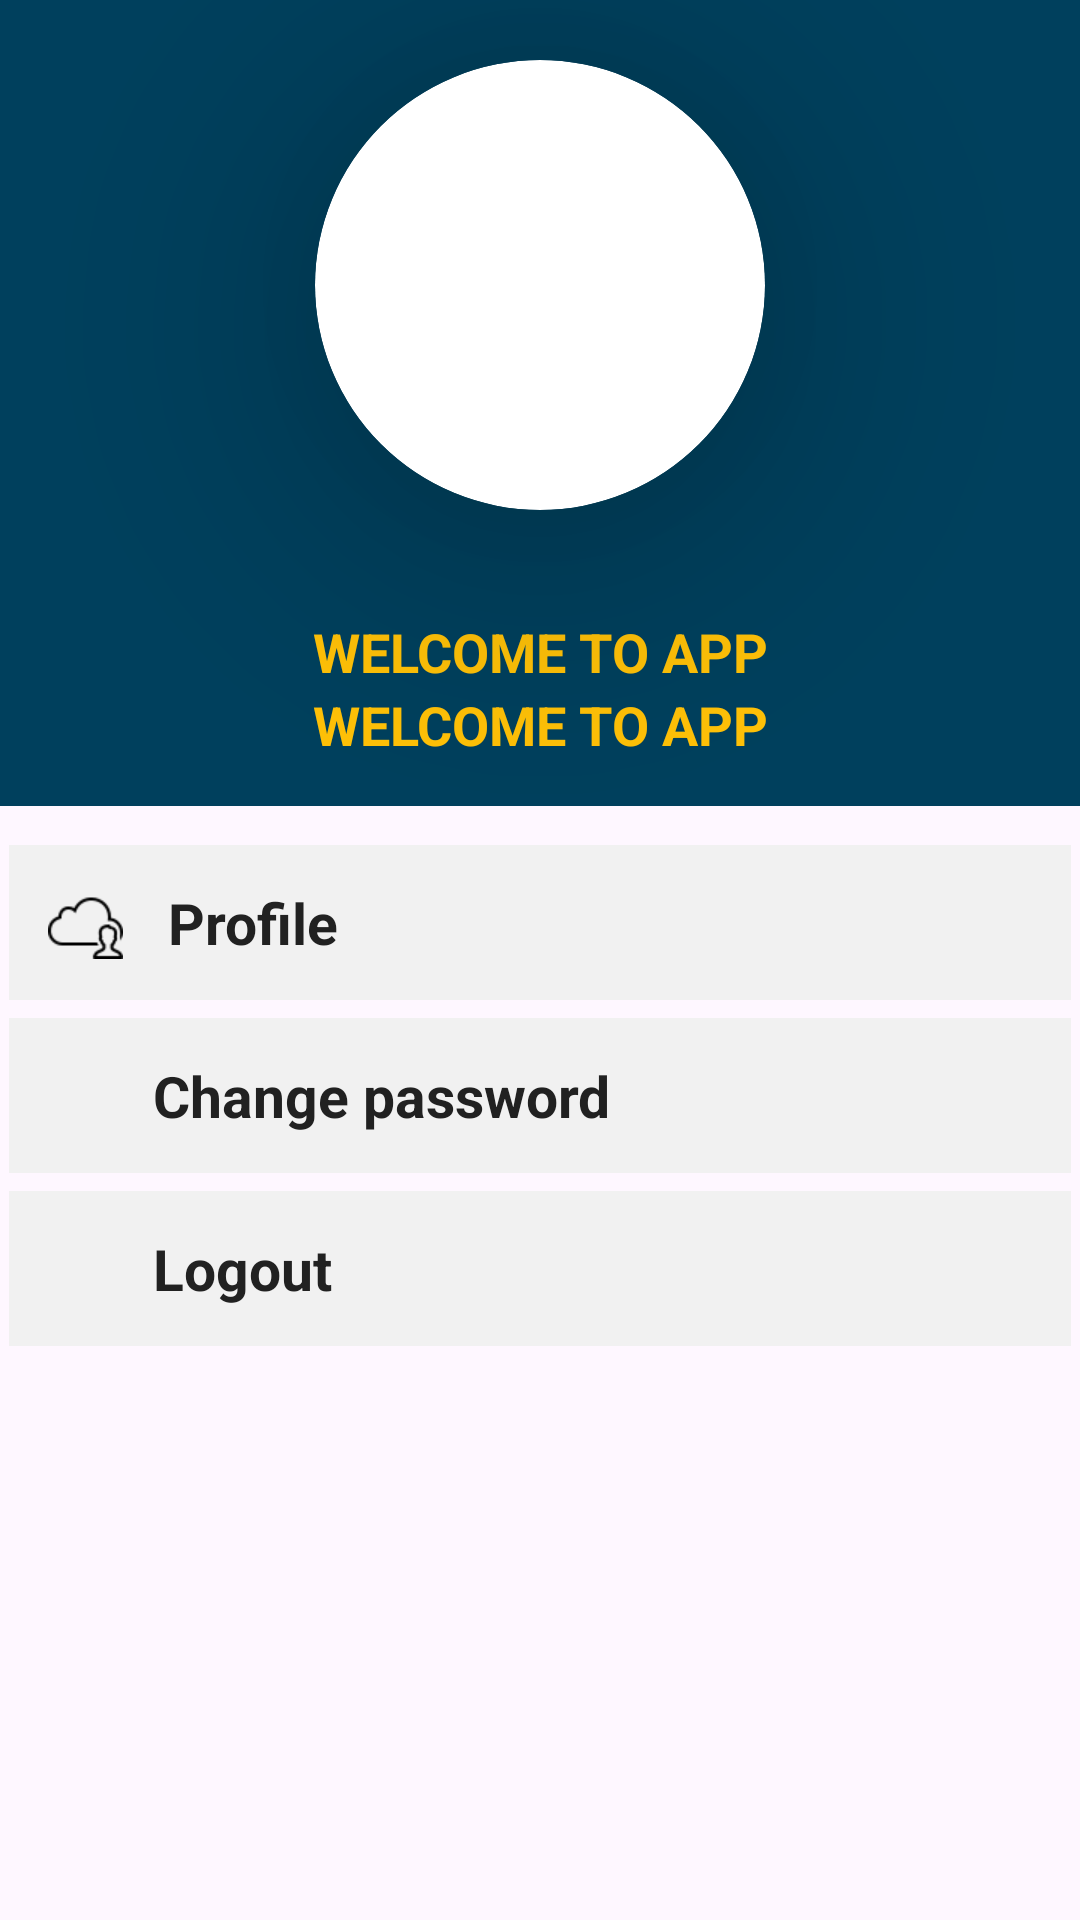

Locate icon controls on the screen. Image size 1080*1920, boxes as detection(x1, y1, x2, y2).
cloud user: detection(48, 897, 123, 959)
